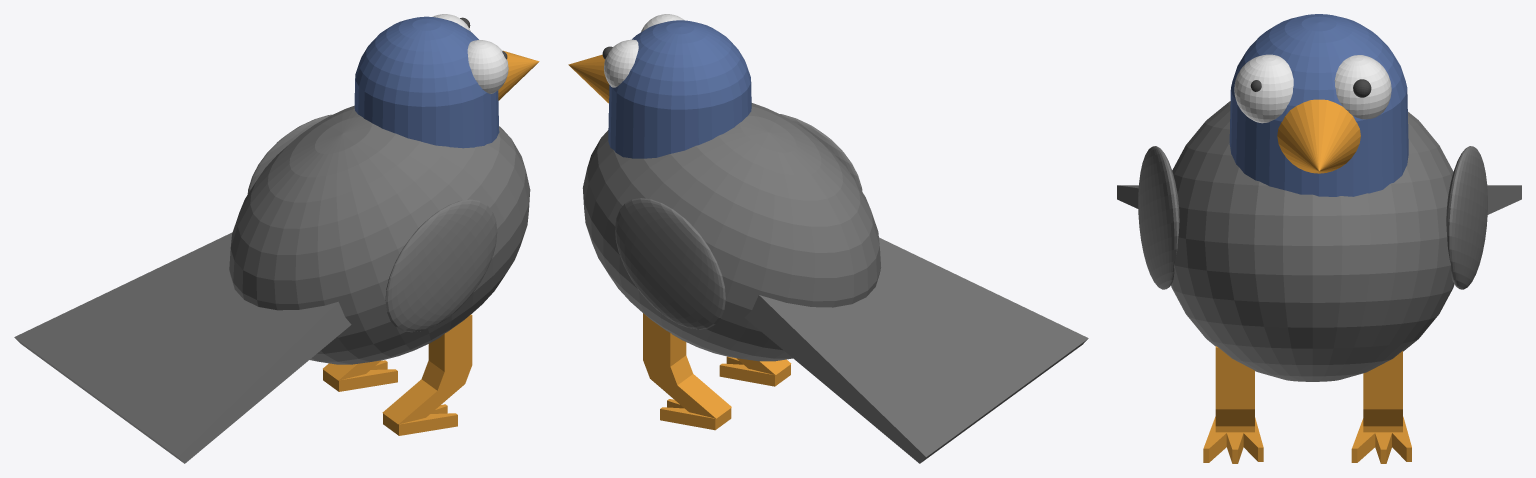
Rendered from pigeon.fbx.
3 renders of one model, left to right at view 1: azimuth 30°, elevation 25°; view 2: azimuth 150°, elevation 25°; view 3: azimuth 270°, elevation 25°, orthographic. The views are drawn at different scales.
Visible parts, largest first — view 1: Sphere, Cube, Sphere.003, Sphere.004, Cube.001, Sphere.002, Cube.003, Cube.004, Sphere.005, Cone, Cube.002; view 2: Sphere, Cube, Sphere.003, Sphere.005, Cube.002, Sphere.001, Cube.004, Cube.003, Cone, Sphere.004, Cube.001; view 3: Sphere, Sphere.003, Cone, Sphere.005, Sphere.004, Sphere.002, Cube.001, Cube.002, Sphere.001, Cube.003, Cube.004, Cube.
Boxes of the visible parts, bbox=[...] form: Sphere: bbox=[229, 105, 530, 364]; Cube: bbox=[14, 232, 351, 463]; Sphere.003: bbox=[354, 16, 499, 148]; Sphere.004: bbox=[385, 199, 497, 332]; Cube.001: bbox=[382, 314, 472, 424]; Sphere.002: bbox=[467, 40, 508, 93]; Cube.003: bbox=[383, 404, 457, 435]; Cube.004: bbox=[323, 360, 397, 391]; Sphere.005: bbox=[247, 114, 332, 193]; Cone: bbox=[498, 50, 539, 100]; Cube.002: bbox=[323, 360, 381, 380]; Sphere: bbox=[582, 103, 881, 361]; Cube: bbox=[745, 237, 1088, 463]; Sphere.003: bbox=[608, 20, 751, 158]; Sphere.005: bbox=[615, 198, 725, 329]; Cube.002: bbox=[643, 313, 731, 418]; Sphere.001: bbox=[604, 39, 638, 87]; Cube.004: bbox=[660, 399, 731, 430]; Cube.003: bbox=[719, 356, 790, 386]; Cone: bbox=[568, 54, 609, 103]; Sphere.004: bbox=[780, 114, 862, 191]; Cube.001: bbox=[736, 358, 791, 375]; Sphere: bbox=[1171, 101, 1454, 381]; Sphere.003: bbox=[1229, 14, 1408, 196]; Cone: bbox=[1277, 99, 1360, 173]; Sphere.005: bbox=[1446, 146, 1487, 289]; Sphere.004: bbox=[1138, 146, 1179, 289]; Sphere.002: bbox=[1234, 54, 1293, 123]; Cube.001: bbox=[1215, 346, 1254, 432]; Cube.002: bbox=[1363, 351, 1402, 432]; Sphere.001: bbox=[1334, 55, 1391, 119]; Cube.003: bbox=[1203, 416, 1263, 463]; Cube.004: bbox=[1351, 416, 1411, 463]; Cube: bbox=[1117, 185, 1521, 214].
Size of the model in its own units: 320 by 252 by 205.
